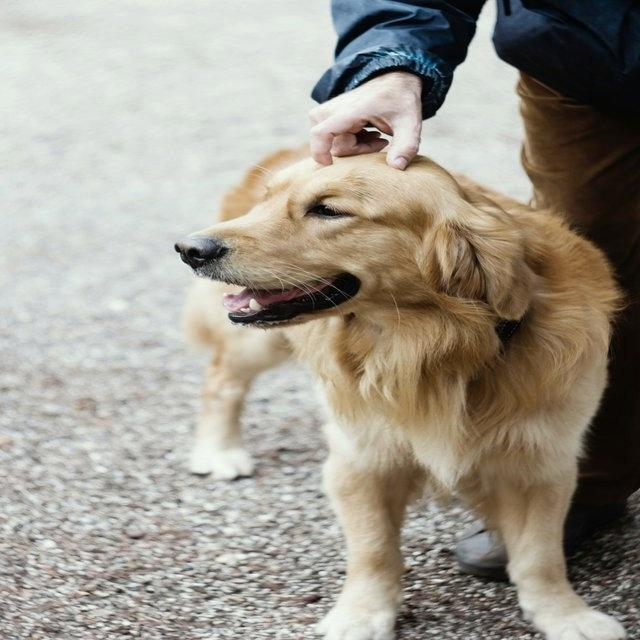retriever: (176, 140, 629, 639)
